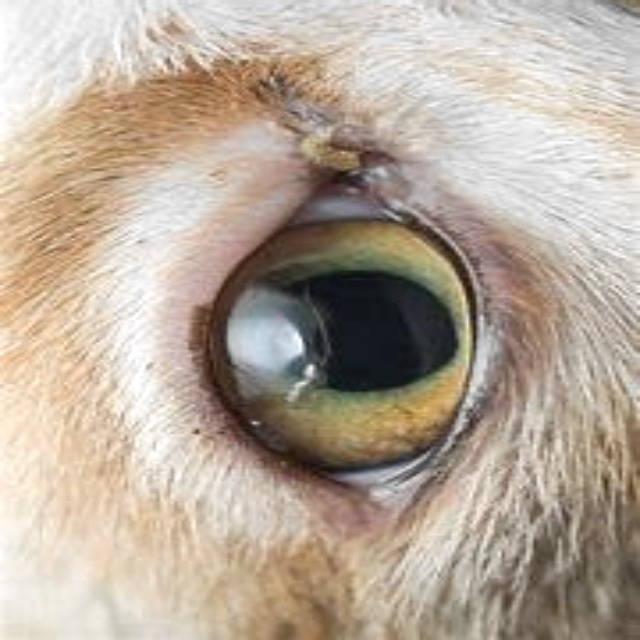eye_infection: (192, 146, 489, 512)
